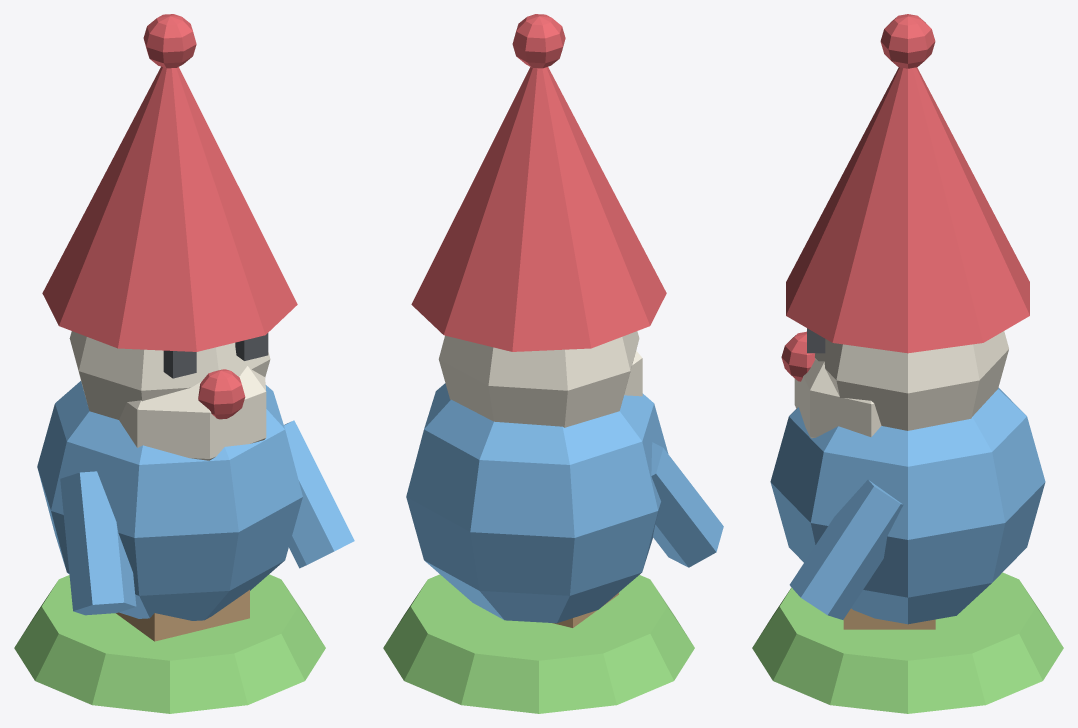
The model's file is lawn-mowing-simulator-kit-garden-gnome-d3b4c51b__27405.glb.
The picture shows the model from 3 angles, left to right: view 1: azimuth 30°, elevation 25°; view 2: azimuth 150°, elevation 25°; view 3: azimuth 270°, elevation 25°; orthographic projection.
Parts seen in each view (by area): view 1: garden-gnome; view 2: garden-gnome; view 3: garden-gnome.
Part boxes in pixels (x1,y1,x2,y2): garden-gnome: [14, 14, 354, 713]; garden-gnome: [383, 14, 723, 713]; garden-gnome: [752, 14, 1063, 713].
Size of the model in its own units: 0.3455 by 0.76 by 0.34.
